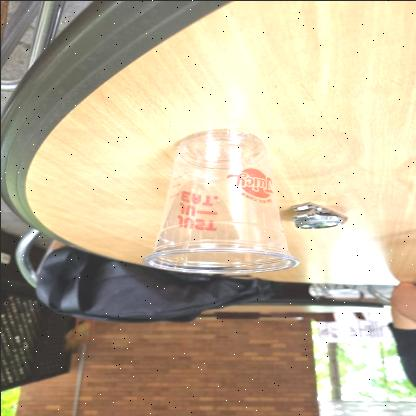Others: (147, 126, 297, 276)
